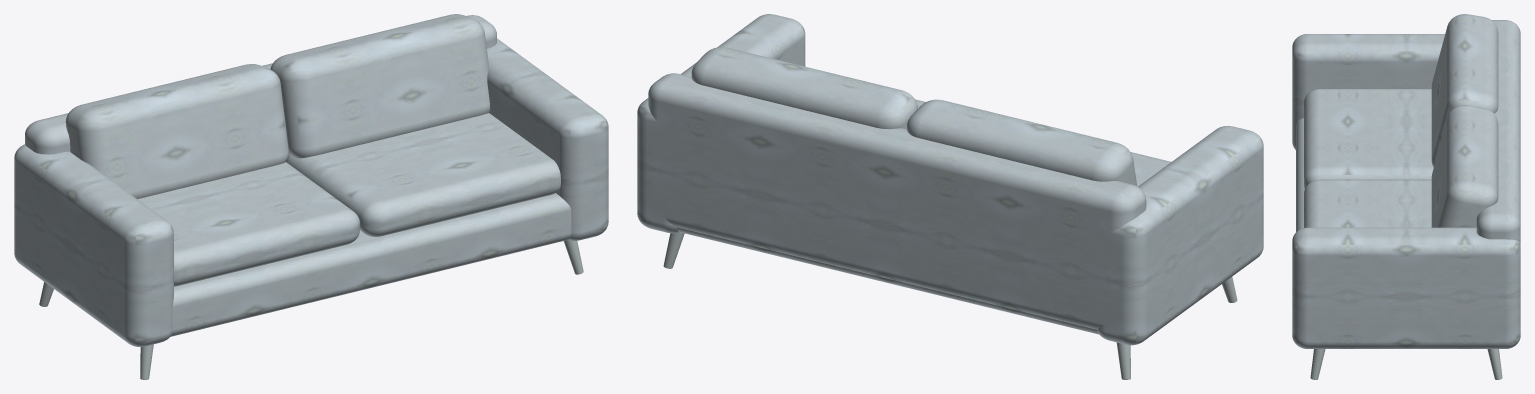
The model's file is mood-3.glb.
3 renders of one model, left to right at view 1: azimuth 30°, elevation 25°; view 2: azimuth 150°, elevation 25°; view 3: azimuth 270°, elevation 25°, orthographic. The views are drawn at different scales.
Parts seen in each view (by area): view 1: Cube; view 2: Cube; view 3: Cube.
Boxes of the visible parts, <box> form: Cube: <box>14,14,608,379</box>; Cube: <box>637,14,1263,379</box>; Cube: <box>1292,14,1520,379</box>.
Bounding box in the file's own units: 2 × 0.8 × 0.9.
2 materials, 1 textured.
